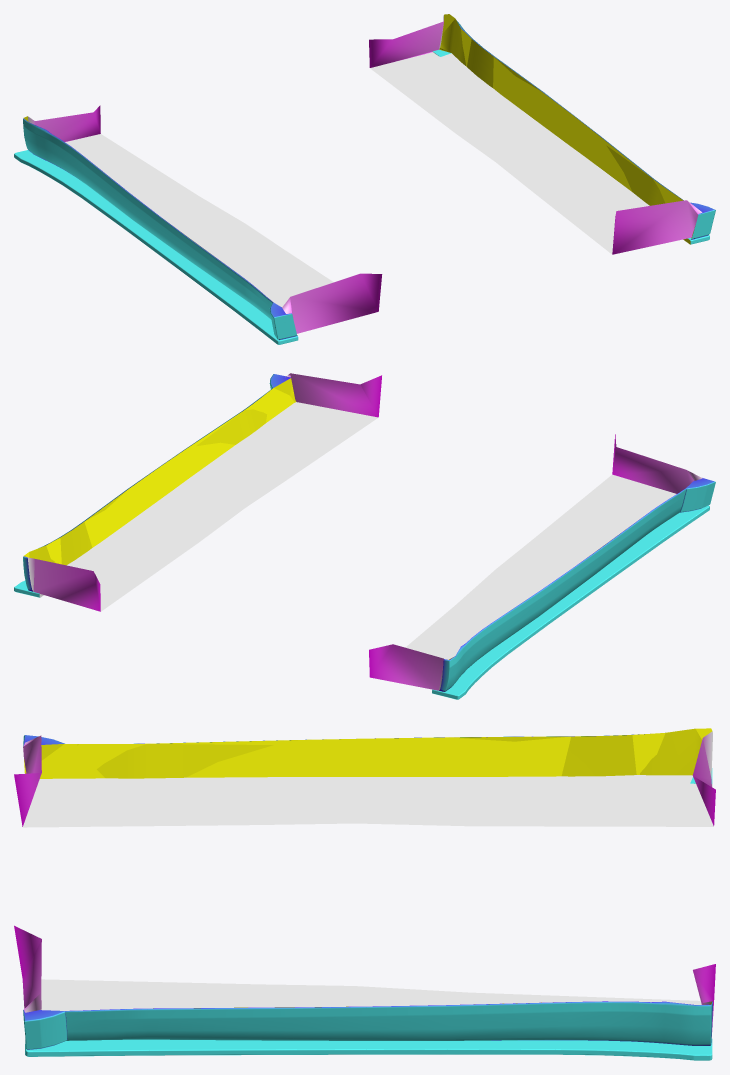
Rendered from Car_Mini_CountrymanJCW_2017_Skirts_SetE_AltB.fbx.
3 renders of one model, top to bottom at view 1: azimuth 30°, elevation 25°; view 2: azimuth 150°, elevation 25°; view 3: azimuth 270°, elevation 25°, orthographic. The views are drawn at different scales.
Visible parts, largest first — view 1: Skirts 6; view 2: Skirts 6; view 3: Skirts 6.
Boxes of the visible parts, x1,y1,x2,y2 form: Skirts 6: (14, 14, 715, 344); Skirts 6: (14, 373, 715, 699); Skirts 6: (14, 728, 715, 1060).
Bounding box in the file's own units: 1.85 × 0.1999 × 1.9.
